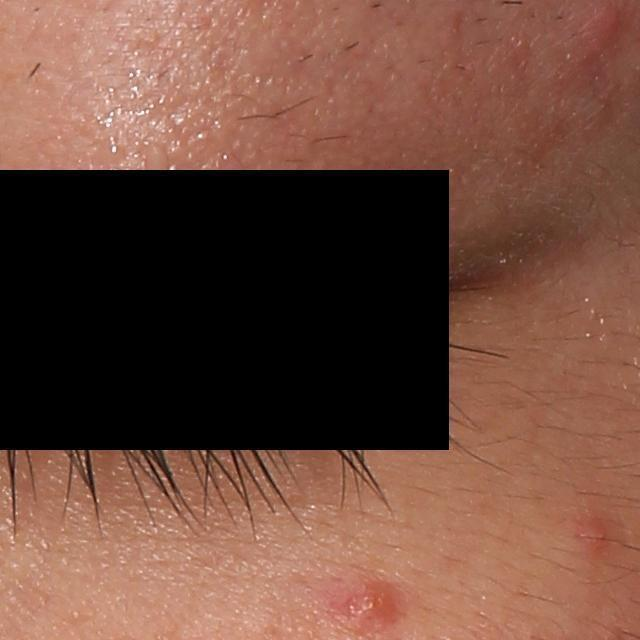papule: (332, 575, 399, 625), (571, 519, 620, 556)
